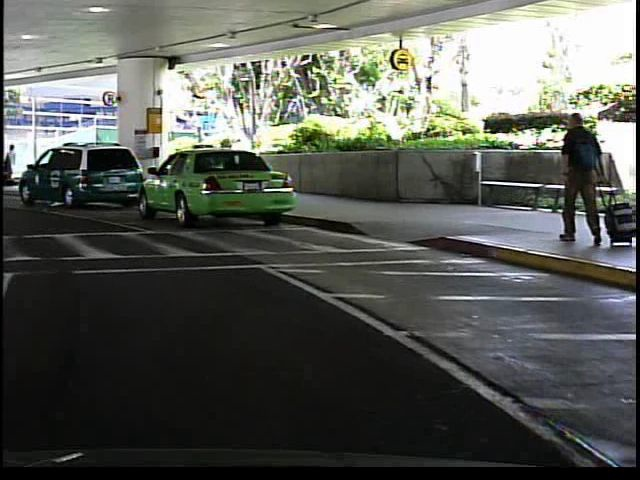person: (545, 103, 609, 254)
